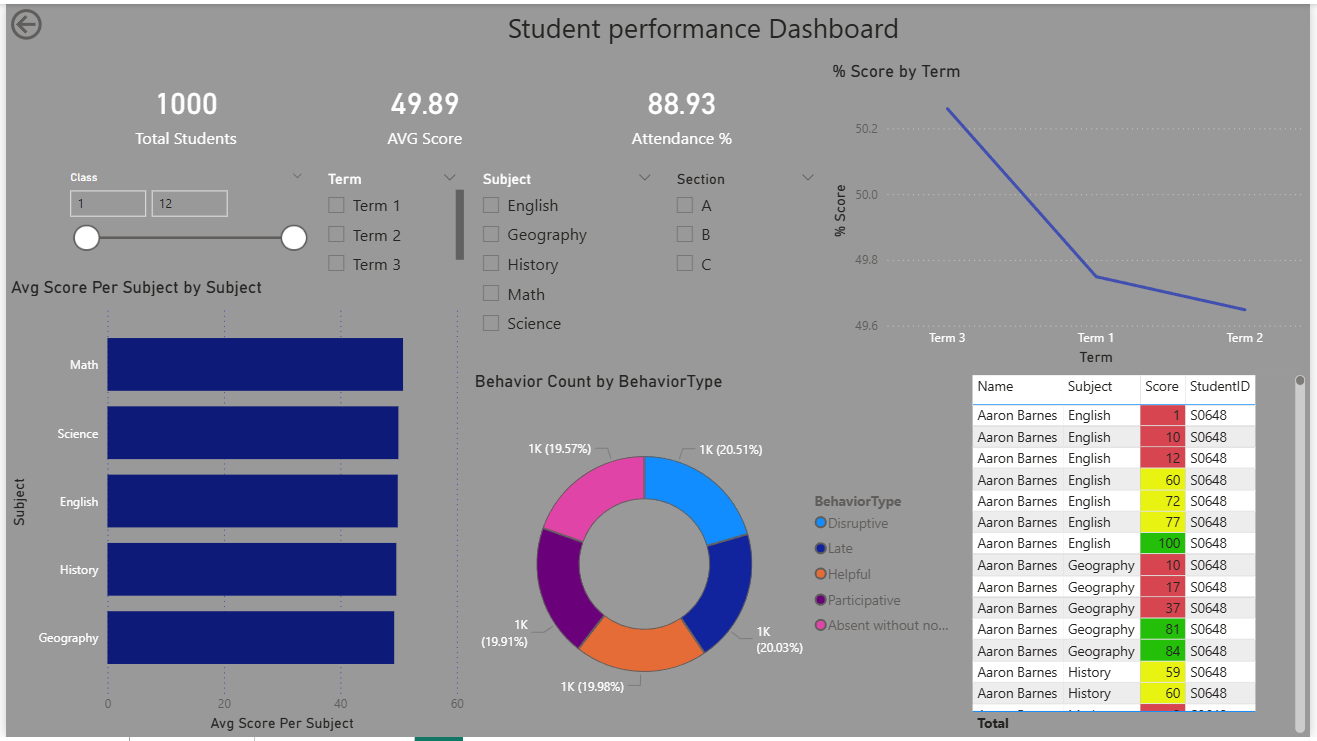

This screenshot's page, from the dashboard's own definition file:
{"tool":"powerbi","page":{"name":"Dashboard","canvas":[1280,720],"ordinal":0},"visuals":[{"type":"clusteredBarChart","fields":{"Category":["Students_score.Subject"],"Y":["All Measures.Avg Score Per Subject"]},"box":[0,268,454.7,452],"z":0},{"type":"lineChart","fields":{"Category":["Students_score.Term"],"Y":["All Measures.% Score"]},"box":[806.6,55.5,473.7,304.5],"z":1000},{"type":"donutChart","fields":{"Category":["Students_Behavior.BehaviorType"],"Y":["All Measures.Behavior Count"]},"box":[454.7,360,487.2,360],"z":2000},{"type":"slicer","fields":{"Values":["Students_profile.Class"]},"box":[50.1,158.3,253.1,109.6],"z":3000},{"type":"slicer","fields":{"Values":["Students_profile.Section"]},"box":[645.6,158.3,161,201.7],"z":4000},{"type":"slicer","fields":{"Values":["Students_score.Subject"]},"box":[454.7,158.3,190.8,201.7],"z":5000},{"type":"slicer","fields":{"Values":["Students_score.Term"]},"box":[303.2,158.3,151.6,109.6],"z":6000},{"type":"card","fields":{"Values":["All Measures.Total Students"]},"box":[50.1,55.5,253.1,102.9],"z":7000},{"type":"card","fields":{"Values":["All Measures.AVG Score"]},"box":[303.2,55.5,216.5,102.9],"z":8000},{"type":"card","fields":{"Values":["All Measures.Attendance %"]},"box":[519.7,55.5,286.9,102.9],"z":9000},{"type":"actionButton","box":[0,0,100,40],"z":10000},{"type":"textbox","box":[473.6,0,422.1,55.2],"z":11000},{"type":"tableEx","fields":{"Values":["Students_profile.Name","Students_score.Subject","Students_score.Score","Students_profile.StudentID"]},"box":[942.3,359.5,337.4,360.7],"z":12000}]}

Visuals, with their boxes on the page's 1280x720 design canvas (x1, y1, x2, y2). These are canvas units, not pixel positions in the 1317x741 screenshot, which may show the page scaled, cropped or inside an application window:
clusteredBarChart - Students_score.Subject x All Measures.Avg Score Per Subject: (left=0, top=268, right=455, bottom=720)
lineChart - Students_score.Term x All Measures.% Score: (left=807, top=56, right=1280, bottom=360)
donutChart - Students_Behavior.BehaviorType x All Measures.Behavior Count: (left=455, top=360, right=942, bottom=720)
slicer - Students_profile.Class: (left=50, top=158, right=303, bottom=268)
slicer - Students_profile.Section: (left=646, top=158, right=807, bottom=360)
slicer - Students_score.Subject: (left=455, top=158, right=646, bottom=360)
slicer - Students_score.Term: (left=303, top=158, right=455, bottom=268)
card - All Measures.Total Students: (left=50, top=56, right=303, bottom=158)
card - All Measures.AVG Score: (left=303, top=56, right=520, bottom=158)
card - All Measures.Attendance %: (left=520, top=56, right=807, bottom=158)
actionButton: (left=0, top=0, right=100, bottom=40)
textbox: (left=474, top=0, right=896, bottom=55)
tableEx - Students_profile.Name x Students_score.Subject: (left=942, top=360, right=1280, bottom=720)
